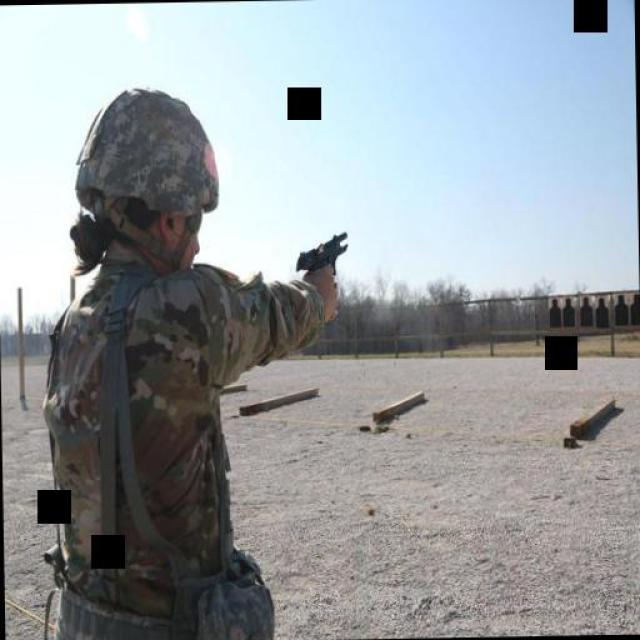gun: (292, 230, 350, 282)
